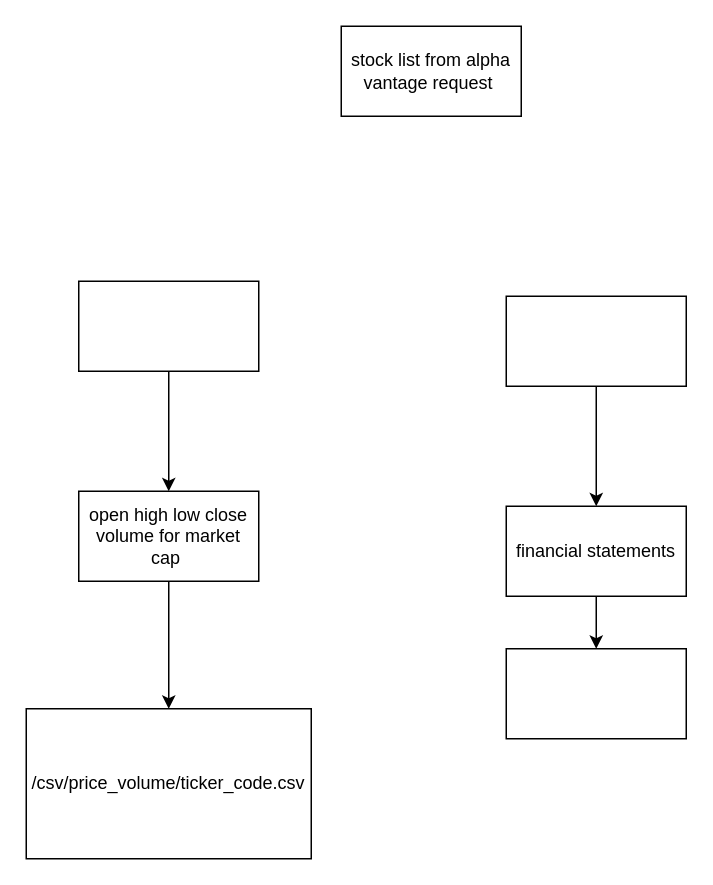
The diagram is 713 pixels wide and 885 high, and some of its shapes have lost their labels. Here are the shapes that lost their labels. From the top down, the centre of each, then its label:
the point at 168,325: yfinance
the point at 595,340: alphaVantage (alpha vantage only support 4years of financial statement data)
